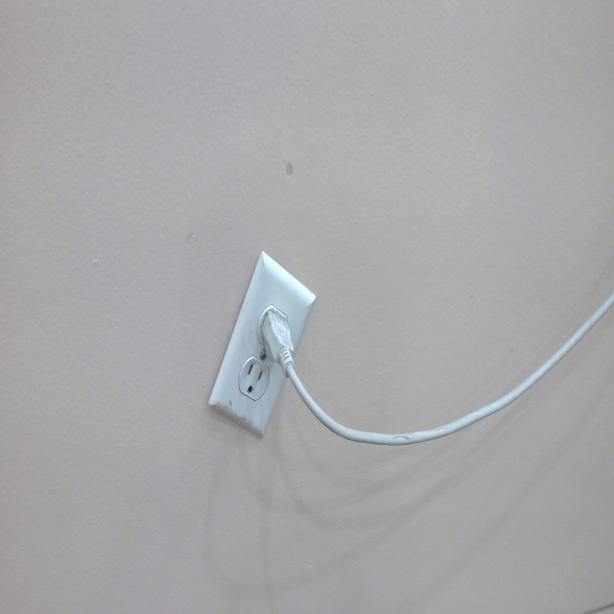typeb: (238, 363, 268, 400)
